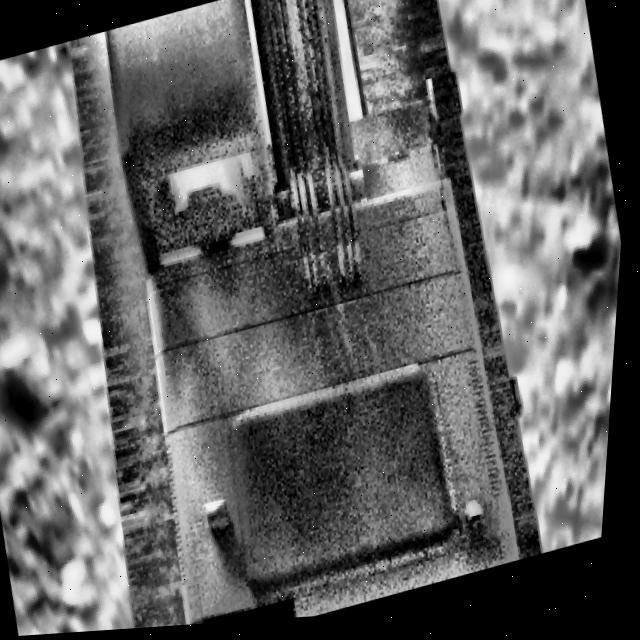excavator: (14, 0, 580, 637)
